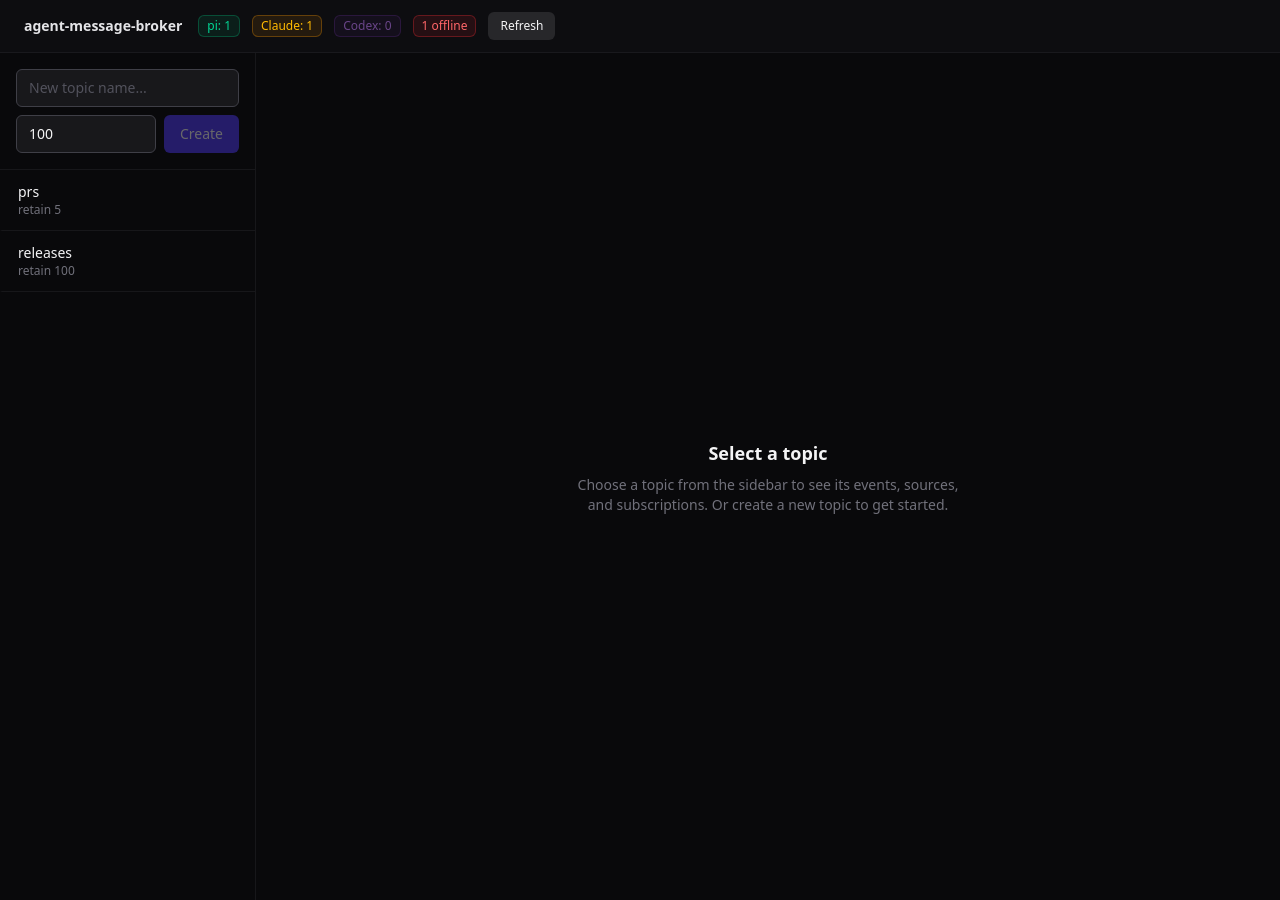
Test: App (jsdom) › browses retained events
Click the text "prs": (29, 192) [18,182,39,201]
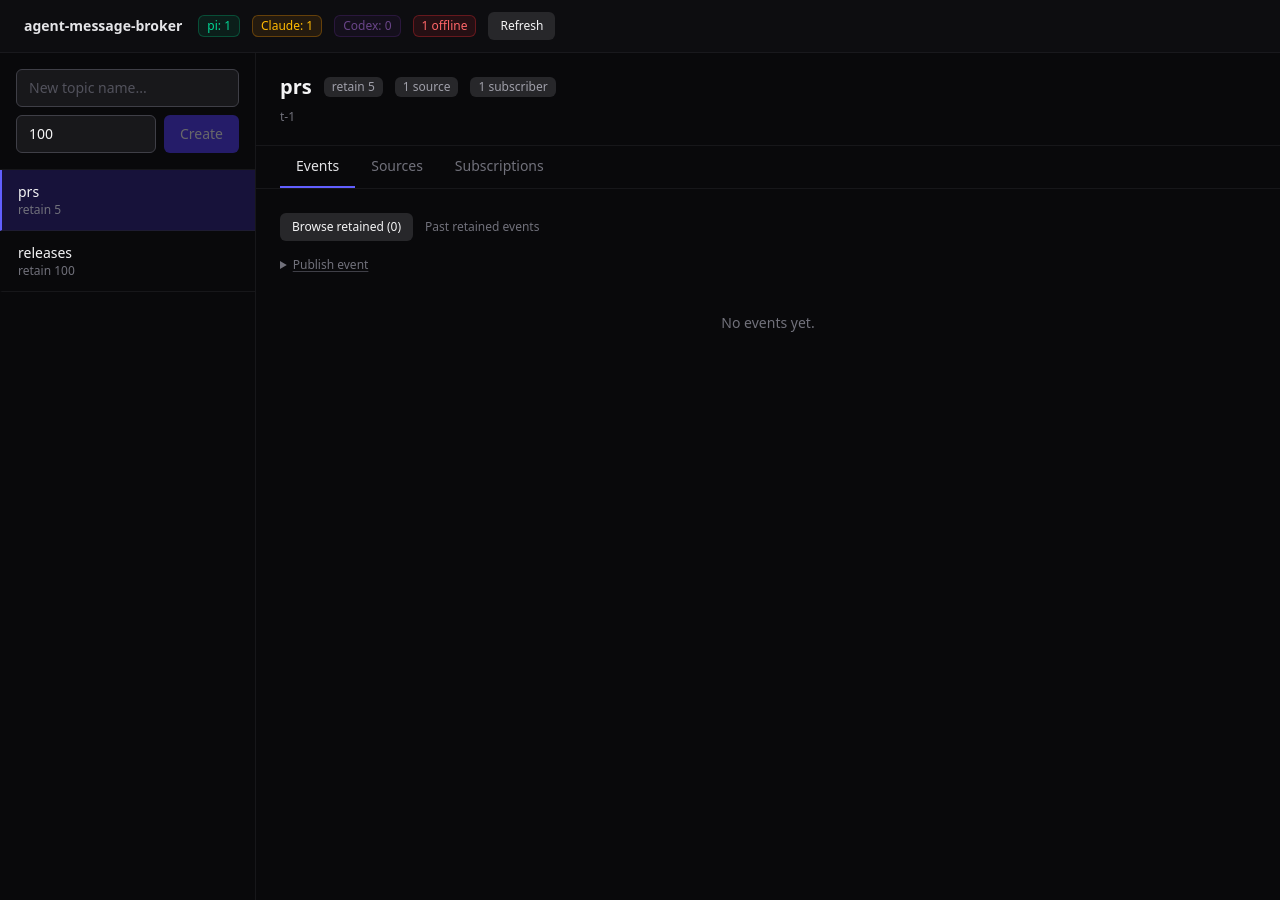
Click the button "Browse retained (0)": (346, 227) [280,213,413,241]
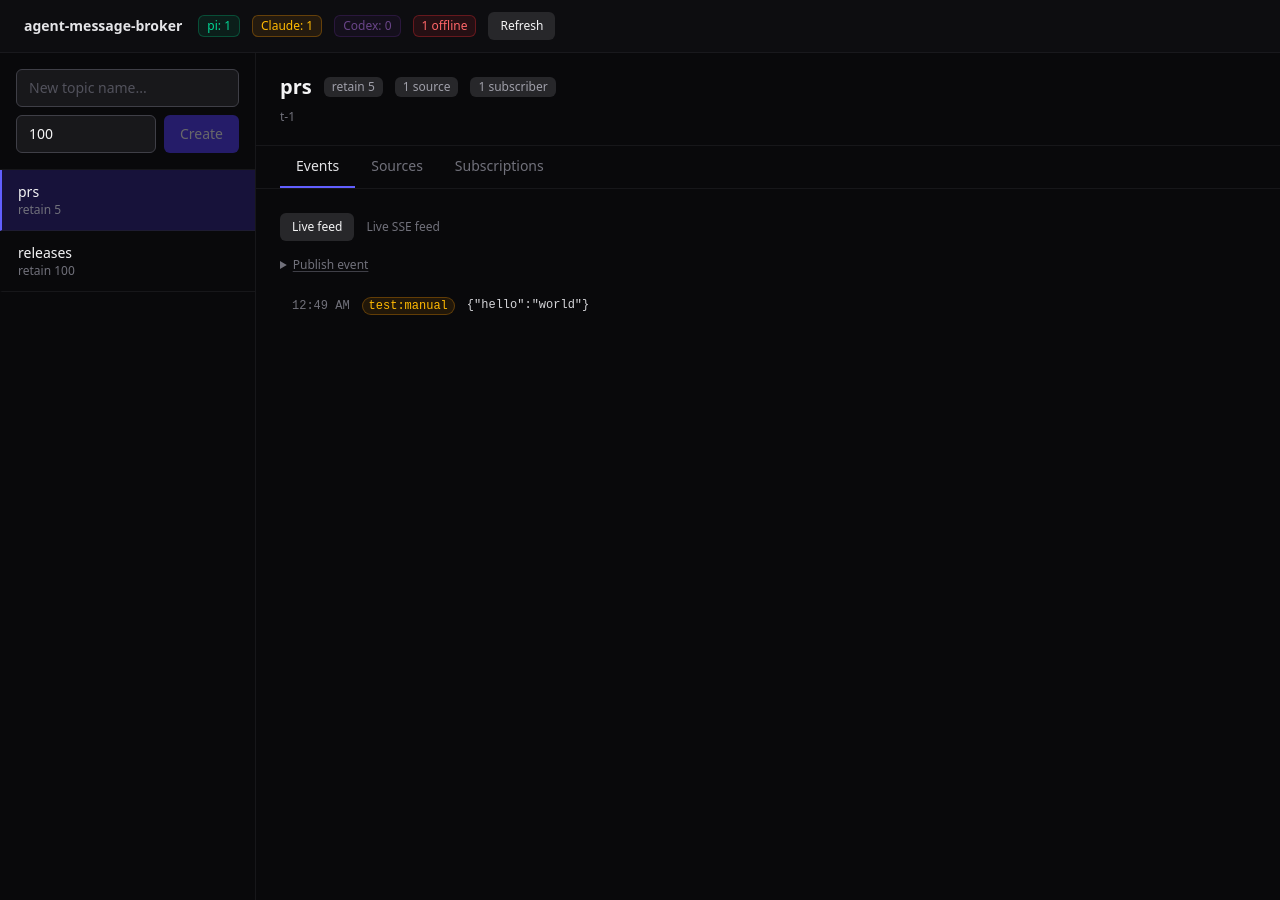
Now the text "test:manual" is shown, box [362,297,455,315]
